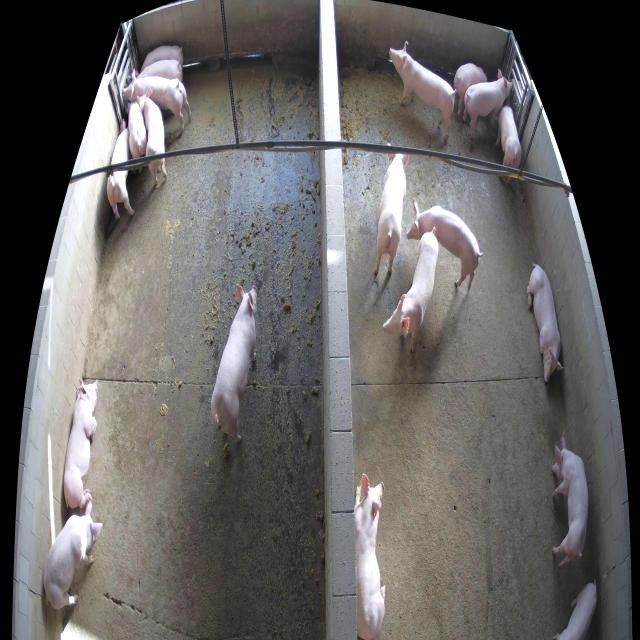pig: (406, 197, 483, 290), (212, 285, 257, 444), (383, 227, 439, 353), (389, 41, 454, 138), (44, 503, 102, 611), (354, 474, 386, 639), (552, 431, 588, 567), (63, 377, 99, 507), (123, 69, 192, 132), (527, 265, 563, 382), (375, 154, 409, 273), (462, 68, 513, 140), (136, 86, 167, 187), (107, 119, 134, 220), (552, 580, 597, 640), (495, 100, 521, 183), (454, 63, 487, 117), (125, 102, 147, 159), (140, 45, 184, 71), (135, 60, 182, 80)
